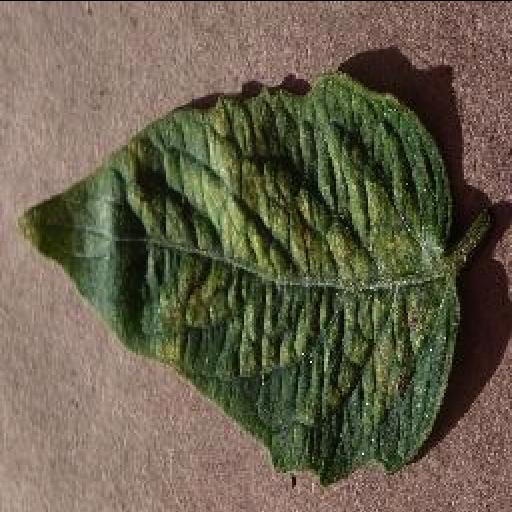disease_tomato: (16, 72, 462, 488)
